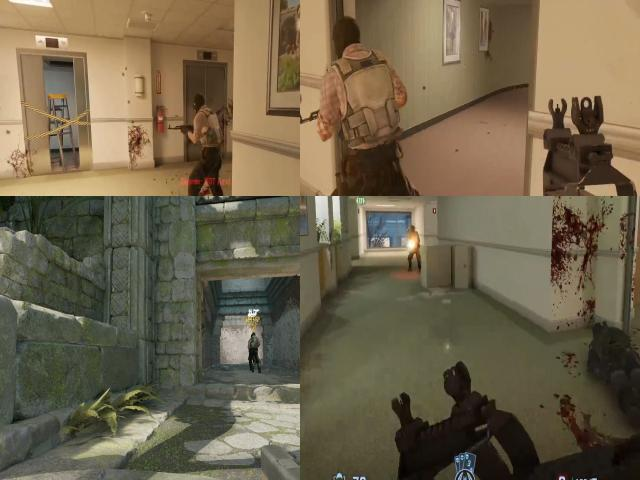T: (316, 36, 412, 158), (179, 92, 226, 178), (247, 324, 261, 378), (406, 223, 422, 268)
T-Head: (328, 12, 368, 64), (187, 88, 211, 125), (407, 223, 418, 236), (250, 331, 258, 339)
